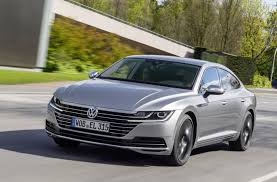car: (43, 52, 258, 167)
